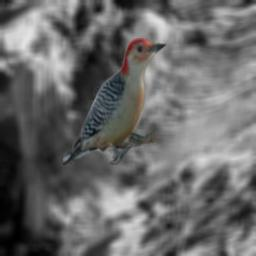Woodpecker: (63, 38, 168, 165)
